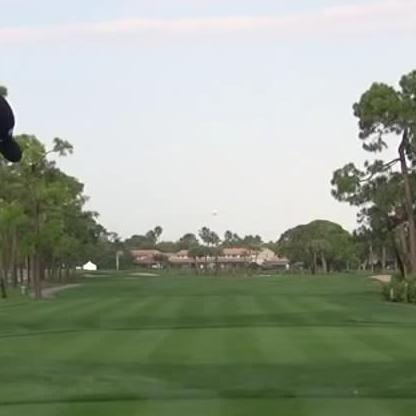golfball: (207, 207, 216, 214)
